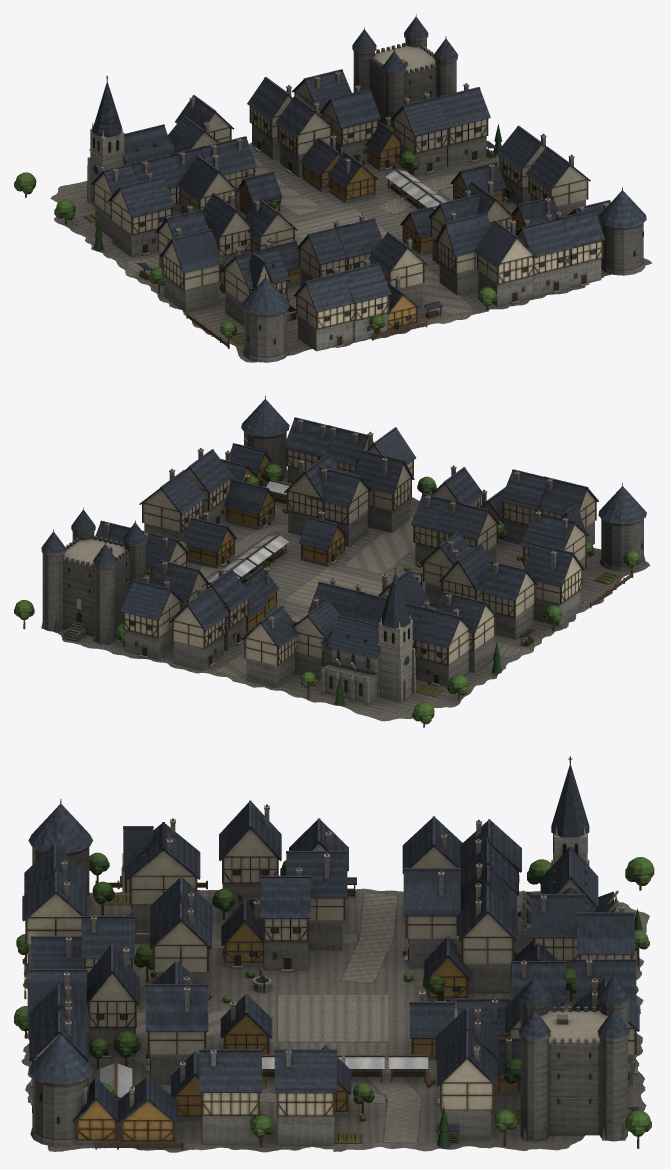
The model's file is kingdoms-town-big-a-europe.glb.
3 views of the same model, one above another, from view 1: azimuth 30°, elevation 25°; view 2: azimuth 150°, elevation 25°; view 3: azimuth 270°, elevation 25° (orthographic). The views are drawn at different scales.
Parts seen in each view (by area): view 1: LOD0; view 2: LOD0; view 3: LOD0.
Boxes of the visible parts, x1,y1,x2,y2 form: LOD0: [14, 14, 651, 362]; LOD0: [14, 395, 650, 727]; LOD0: [14, 756, 654, 1152].
Size of what is drawn, in the model's own units: 8.11 by 2.39 by 8.14.
3 materials, 3 textured.
